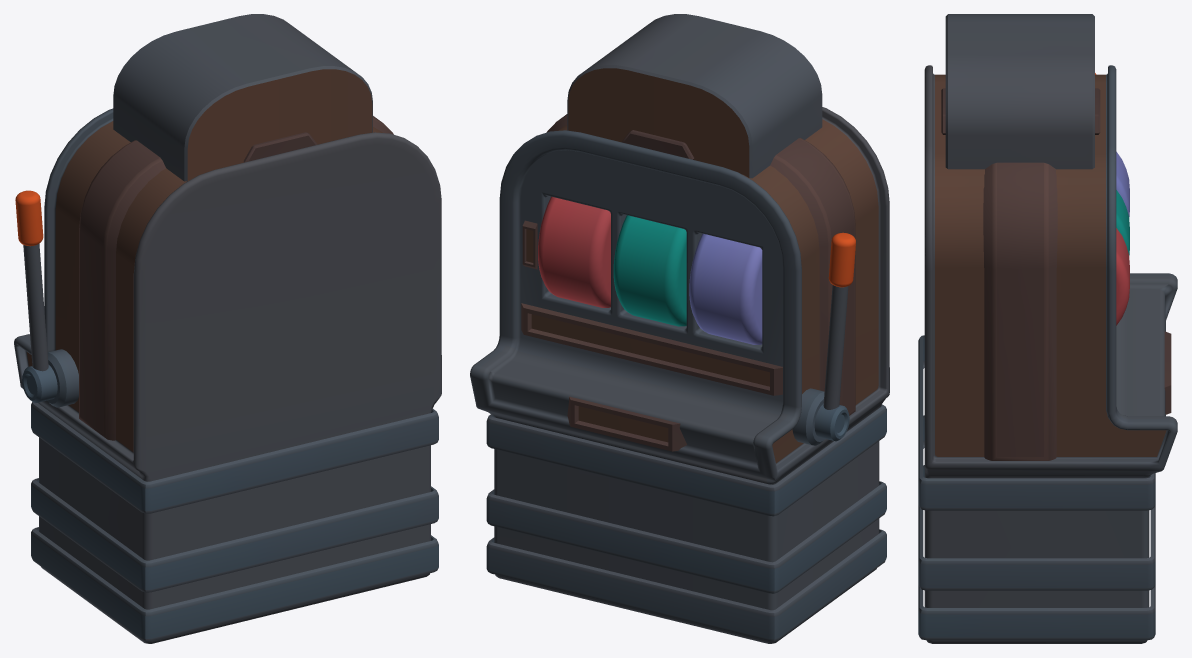
Rendered from SM_Slots.fbx.
3 renders of one model, left to right at view 1: azimuth 30°, elevation 25°; view 2: azimuth 150°, elevation 25°; view 3: azimuth 270°, elevation 25°, orthographic. The views are drawn at different scales.
Parts seen in each view (by area): view 1: Body, Handler; view 2: Body, Slot_3, Slot_2, Slot_1, Handler; view 3: Body, Slot_1, Slot_3, Slot_2.
Part boxes in pixels (left/top/right/bottom): Body: left=14, top=14, right=441, bottom=643; Handler: left=15, top=190, right=78, bottom=407; Body: left=470, top=14, right=889, bottom=643; Slot_3: left=689, top=233, right=762, bottom=344; Slot_2: left=613, top=215, right=686, bottom=326; Slot_1: left=538, top=196, right=610, bottom=307; Handler: left=792, top=232, right=855, bottom=445; Body: left=918, top=14, right=1177, bottom=643; Slot_1: left=1116, top=228, right=1129, bottom=325; Slot_3: left=1116, top=151, right=1129, bottom=216; Slot_2: left=1116, top=190, right=1129, bottom=255.
Bounding box in the file's own units: 198 × 288 × 126.
Materials: 1 (1 with a texture image).
